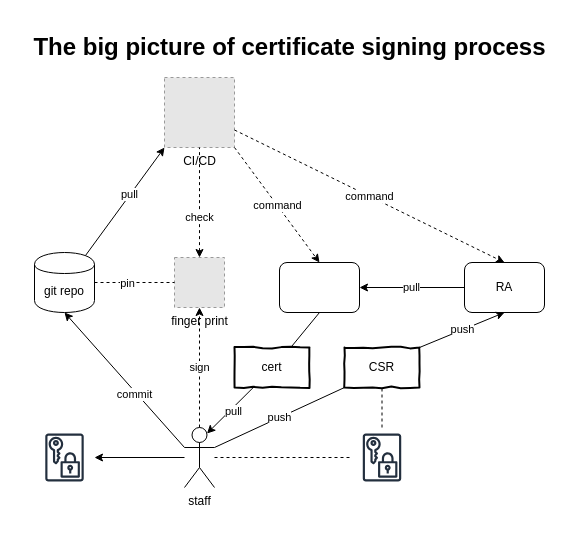
The diagram is 579 pixels wide and 540 high, and some of its shapes have lost their labels. Grey dashed boxes stand in for pictures. The centre of each missing label's shape, as x and y in pixels:
"CA" belongs at point (319, 287).
"private key" belongs at point (64, 457).
"public key" belongs at point (381, 457).
